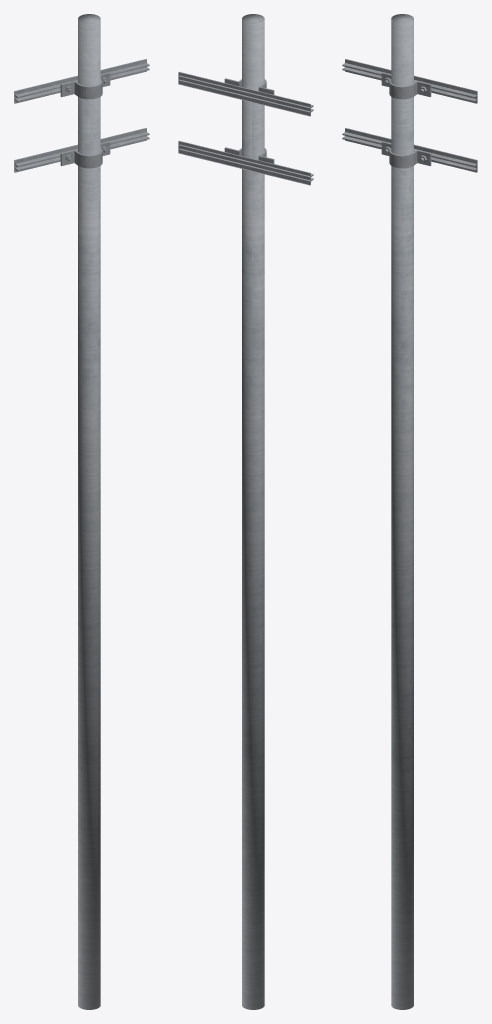
Rendered from Pole_v1__Info_Signs_.fbx.
3 renders of one model, left to right at view 1: azimuth 30°, elevation 25°; view 2: azimuth 150°, elevation 25°; view 3: azimuth 330°, elevation 25°, orthographic.
Visible parts, largest first — view 1: Pole v1 (Info Signs); view 2: Pole v1 (Info Signs); view 3: Pole v1 (Info Signs).
Part boxes in pixels (x1,y1,x2,y2): Pole v1 (Info Signs): (14,14,149,1009); Pole v1 (Info Signs): (178,14,313,1009); Pole v1 (Info Signs): (342,14,477,1009).
Bounding box in the file's own units: 0.0826 × 0.4 × 2.86.
